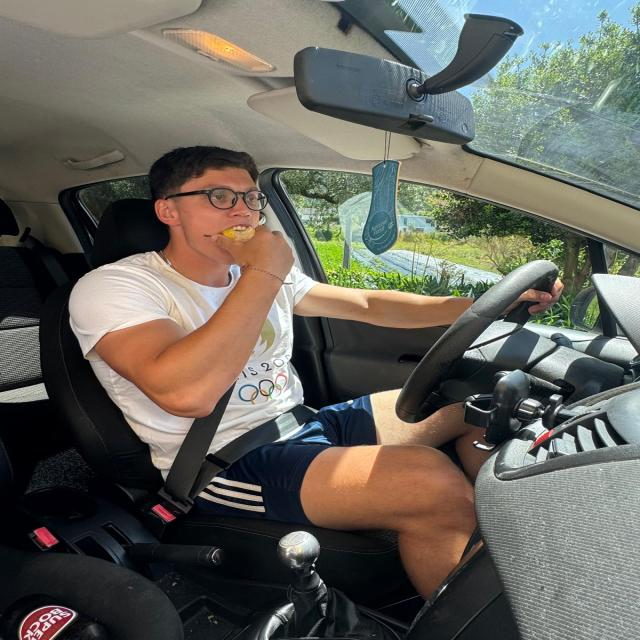Eating: (185, 212, 307, 270)
Seatbelt: (144, 212, 376, 529)
